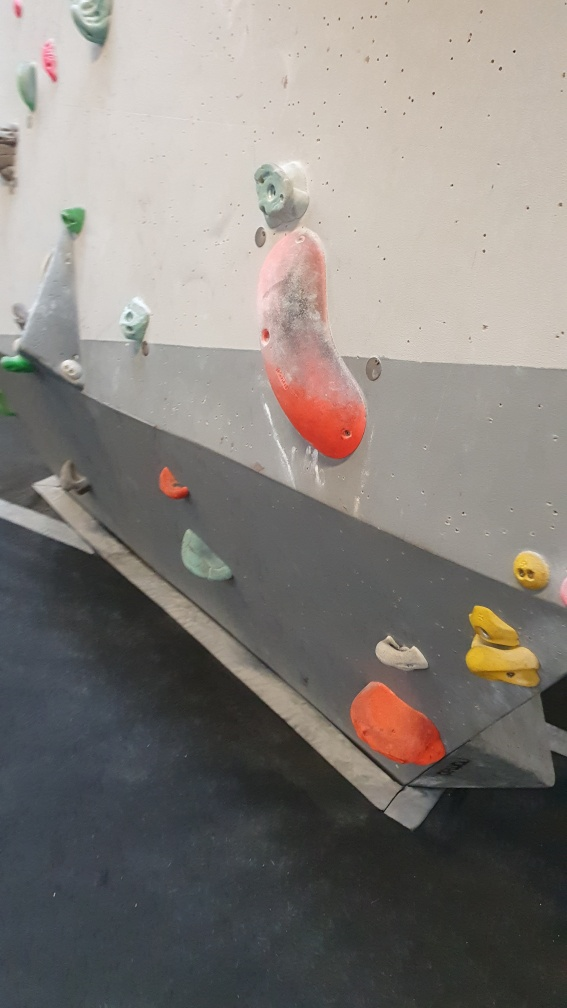Pinch: (253, 230, 372, 465)
